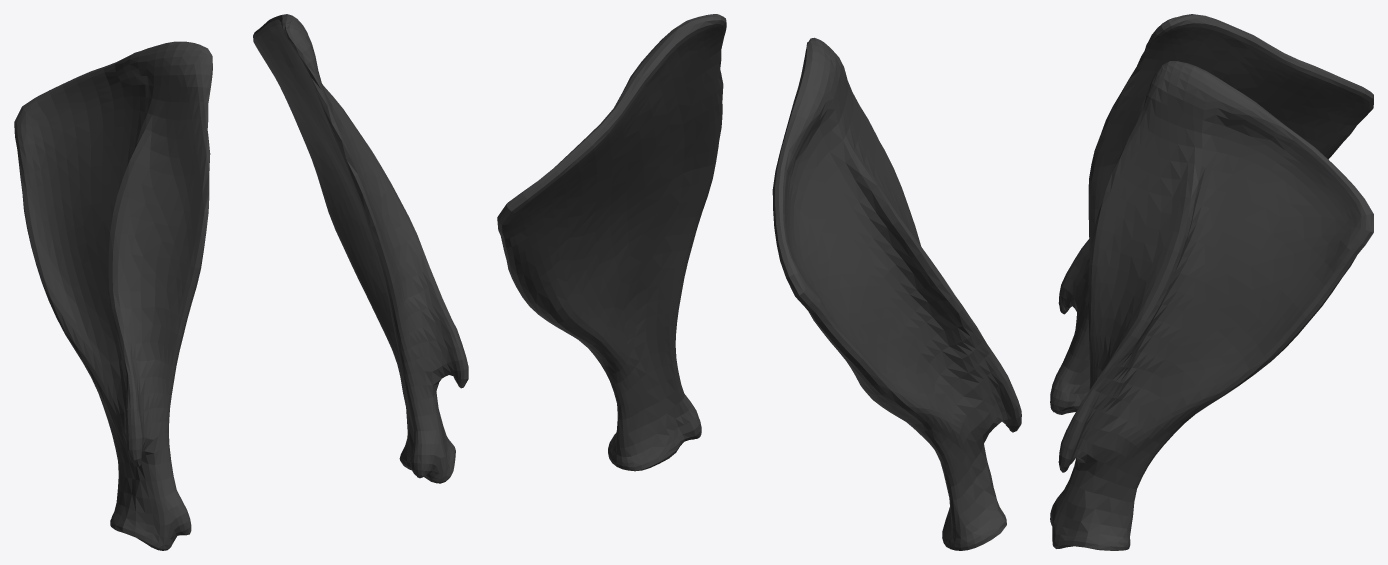
The model's file is b_scapula_L_LO.glb.
The picture shows the model from 3 angles, left to right: view 1: azimuth 30°, elevation 25°; view 2: azimuth 150°, elevation 25°; view 3: azimuth 270°, elevation 25°; orthographic projection. The views are drawn at different scales.
Visible parts, largest first — view 1: b_scapula_L_LO; view 2: b_scapula_L_LO; view 3: b_scapula_L_LO.
Boxes of the visible parts, x1,y1,x2,y2 form: b_scapula_L_LO: (14,14,468,550); b_scapula_L_LO: (497,14,1021,550); b_scapula_L_LO: (1050,14,1373,550).
Size of the model in its own units: 0.00356 by 0.0044 by 0.00293.
Materials: 1 (1 with a texture image).
